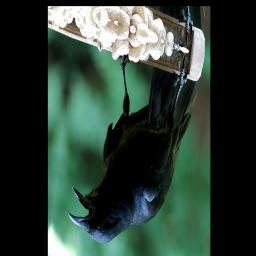Crow: (66, 17, 201, 256)
